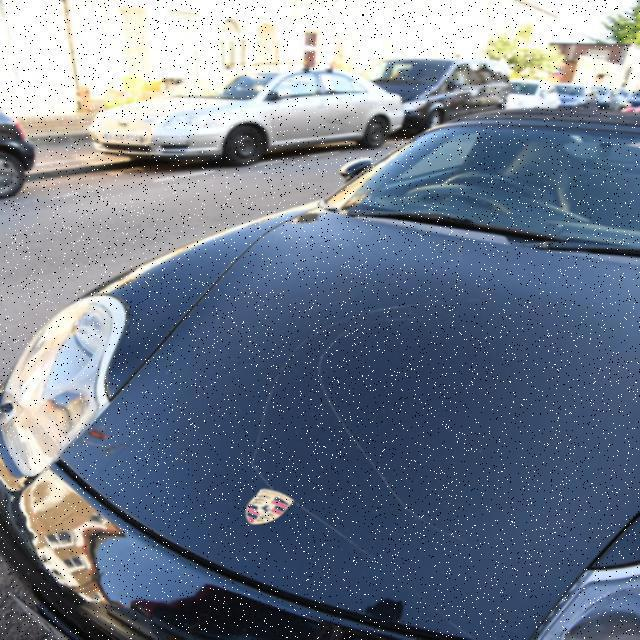car damage: (61, 226, 602, 594)
